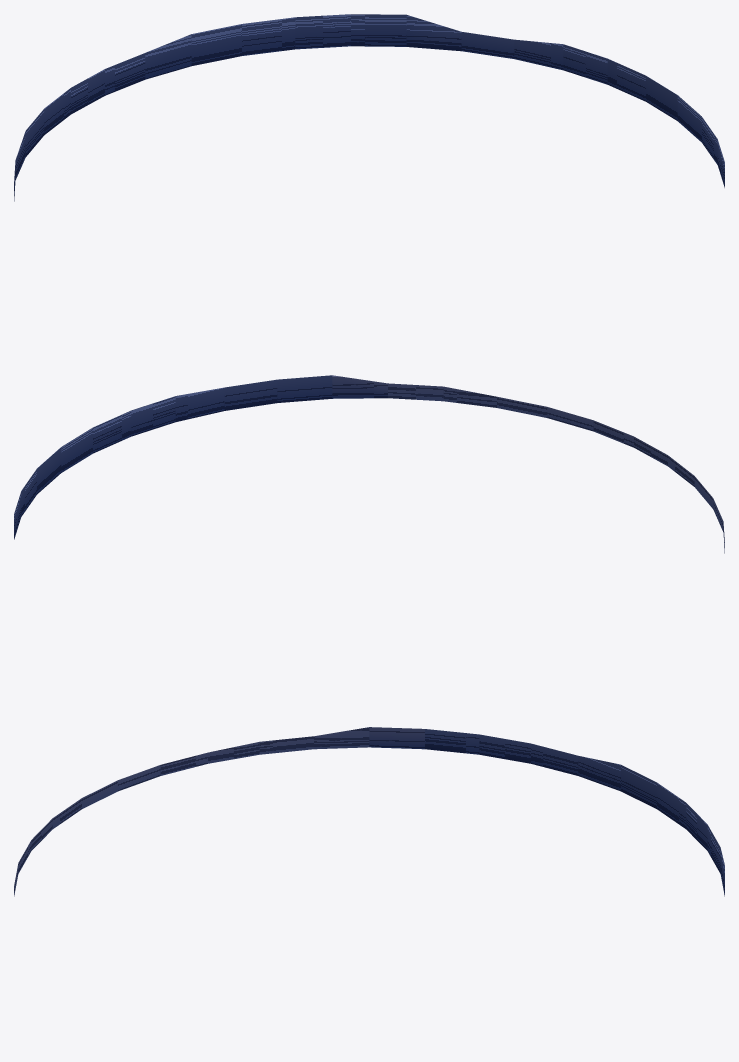
Rendered from wsky.mesas.glb.
3 views of the same model, one above another, from view 1: azimuth 30°, elevation 25°; view 2: azimuth 150°, elevation 25°; view 3: azimuth 270°, elevation 25° (orthographic).
Parts seen in each view (by area): view 1: kit_shell_mesas; view 2: kit_shell_mesas; view 3: kit_shell_mesas.
Boxes of the visible parts, <box> form: kit_shell_mesas: <box>14,14,724,201</box>; kit_shell_mesas: <box>14,375,724,553</box>; kit_shell_mesas: <box>14,727,724,896</box>.
Bounding box in the file's own units: 320 × 15.96 × 320.
1 material, 1 textured.
